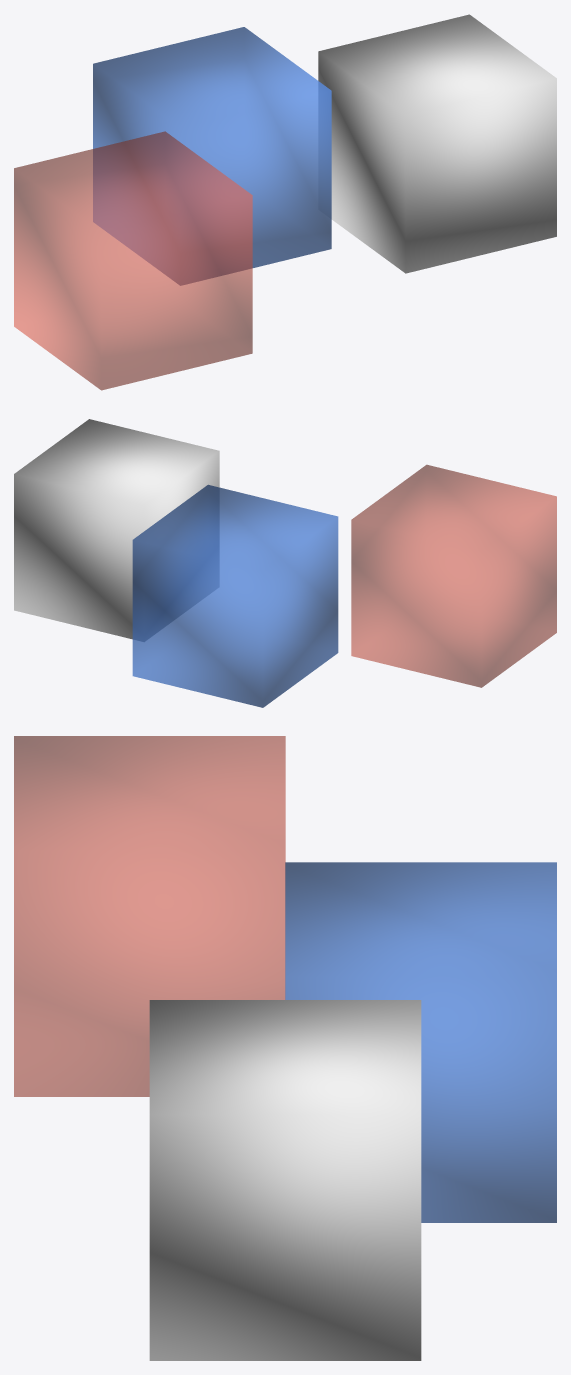
Rendered from GlassCubes.gltf.
3 views of the same model, one above another, from view 1: azimuth 30°, elevation 25°; view 2: azimuth 150°, elevation 25°; view 3: azimuth 270°, elevation 25° (orthographic). The views are drawn at different scales.
Parts seen in each view (by area): view 1: GlassRed, GlassBlue, SolidWhite; view 2: GlassBlue, GlassRed, SolidWhite; view 3: SolidWhite, GlassRed, GlassBlue.
Part boxes in pixels (x1,y1,x2,y2): GlassRed: (14, 131, 252, 390); GlassBlue: (93, 27, 331, 285); SolidWhite: (318, 14, 556, 273); GlassBlue: (132, 484, 338, 707); GlassRed: (351, 465, 556, 687); SolidWhite: (14, 419, 219, 641); SolidWhite: (149, 1000, 421, 1360); GlassRed: (14, 736, 285, 1096); GlassBlue: (285, 862, 556, 1222).
Size of the model in its own units: 3.3 by 1 by 2.
